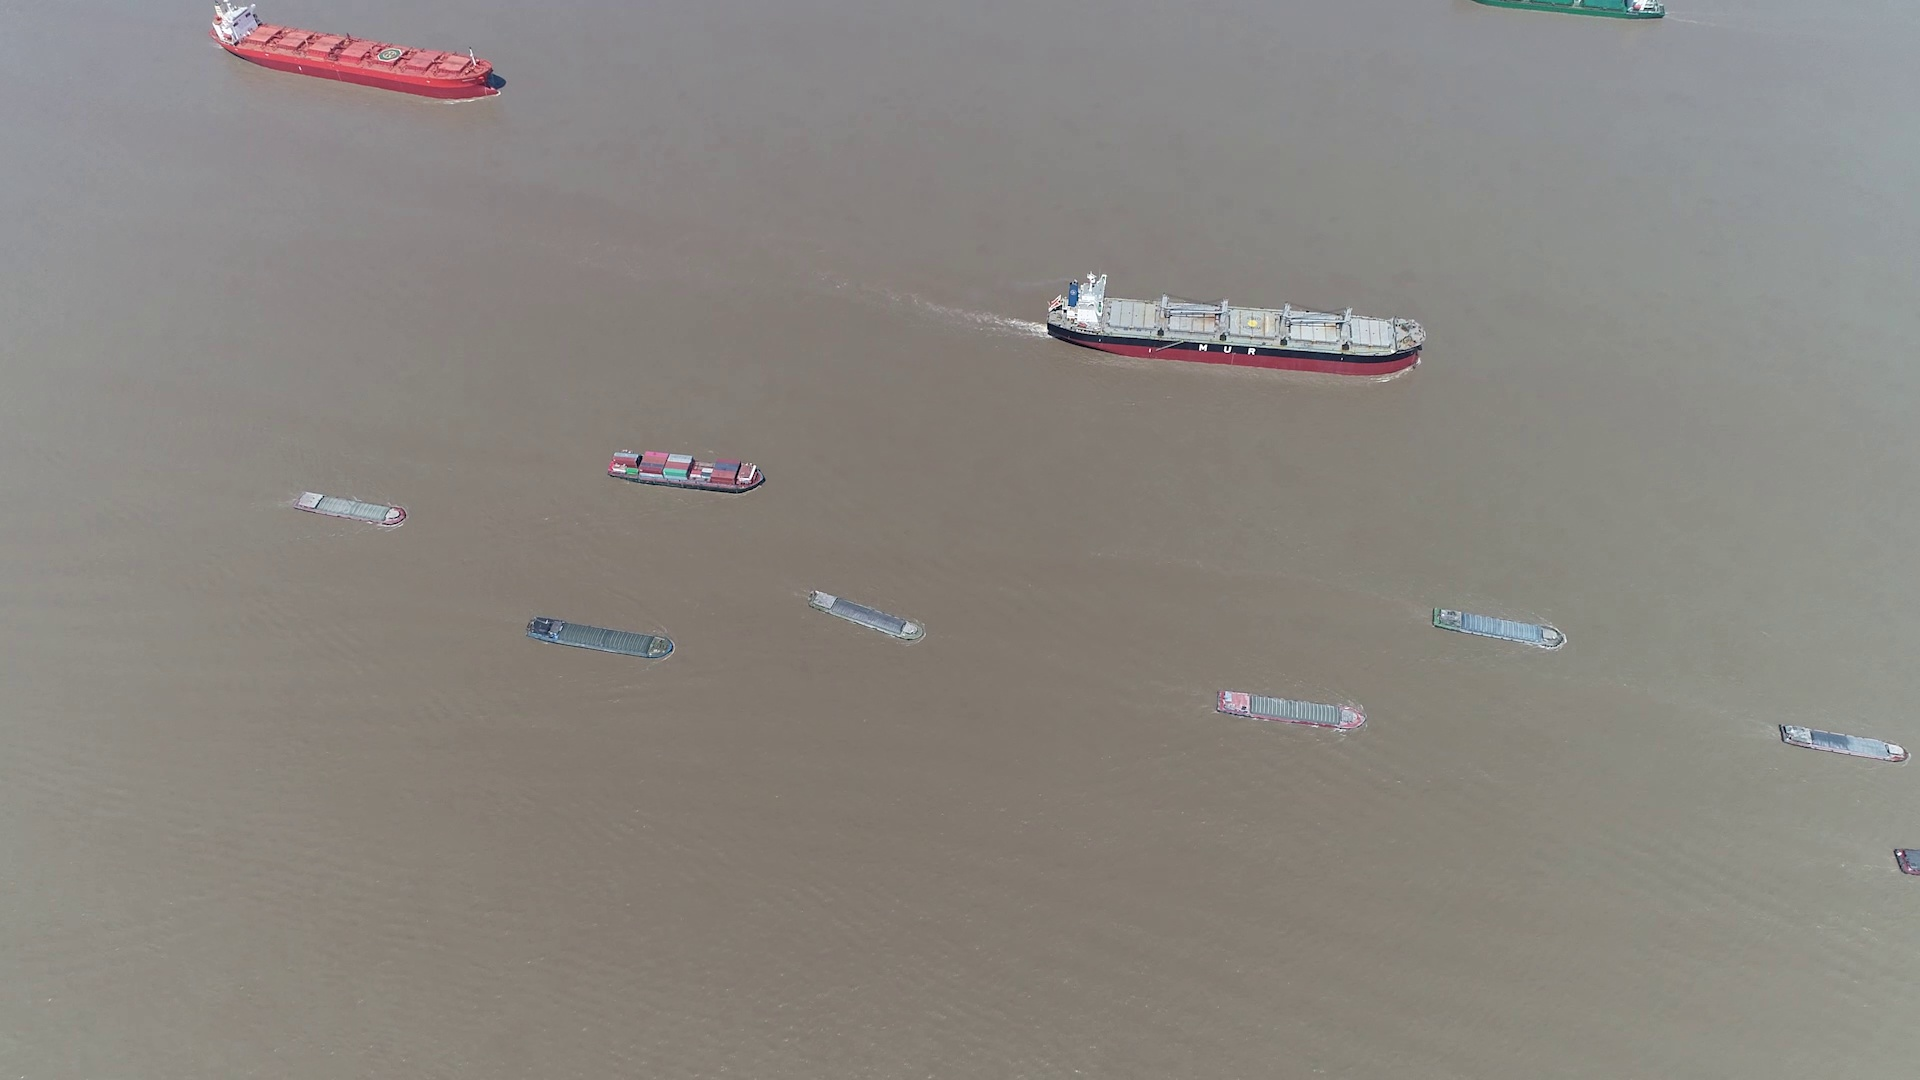ship: (1051, 276, 1425, 376), (208, 1, 504, 102), (605, 447, 766, 492), (527, 617, 675, 662), (1215, 688, 1367, 731), (1429, 607, 1569, 650), (810, 589, 927, 641), (1776, 723, 1907, 765), (291, 489, 406, 526), (1478, 0, 1665, 20), (1895, 848, 1920, 880)
